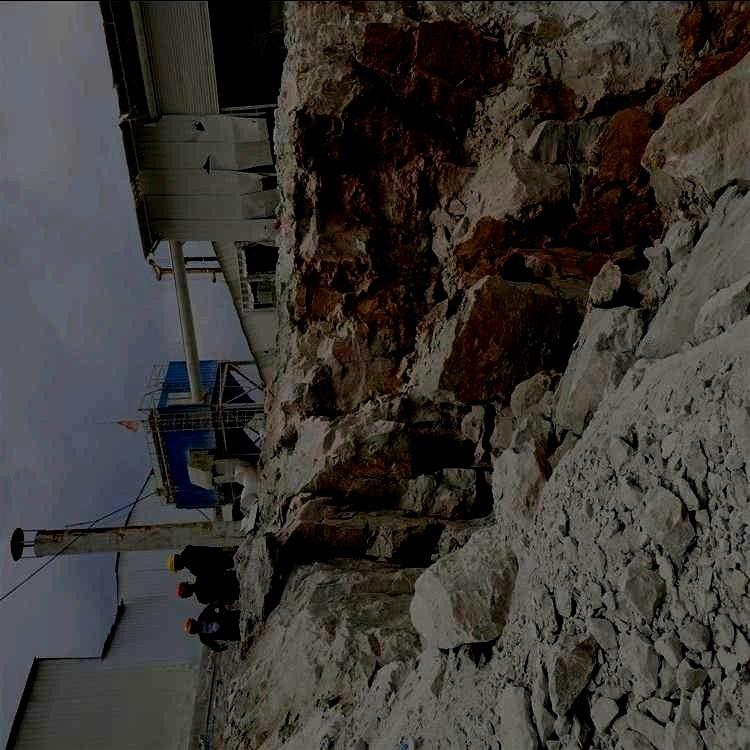helmet: (164, 551, 185, 573), (174, 581, 194, 599), (181, 617, 199, 635)
